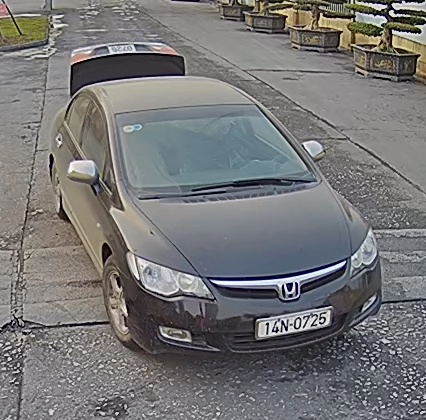vehicle plate: (249, 302, 332, 341)
